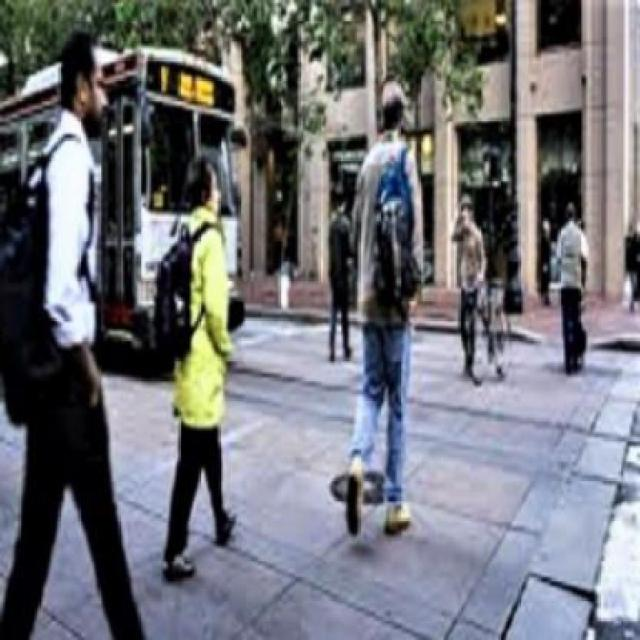Person: (0, 29, 157, 638), (342, 76, 432, 544), (166, 149, 239, 580), (552, 202, 596, 376), (449, 191, 485, 378), (321, 194, 356, 363)
